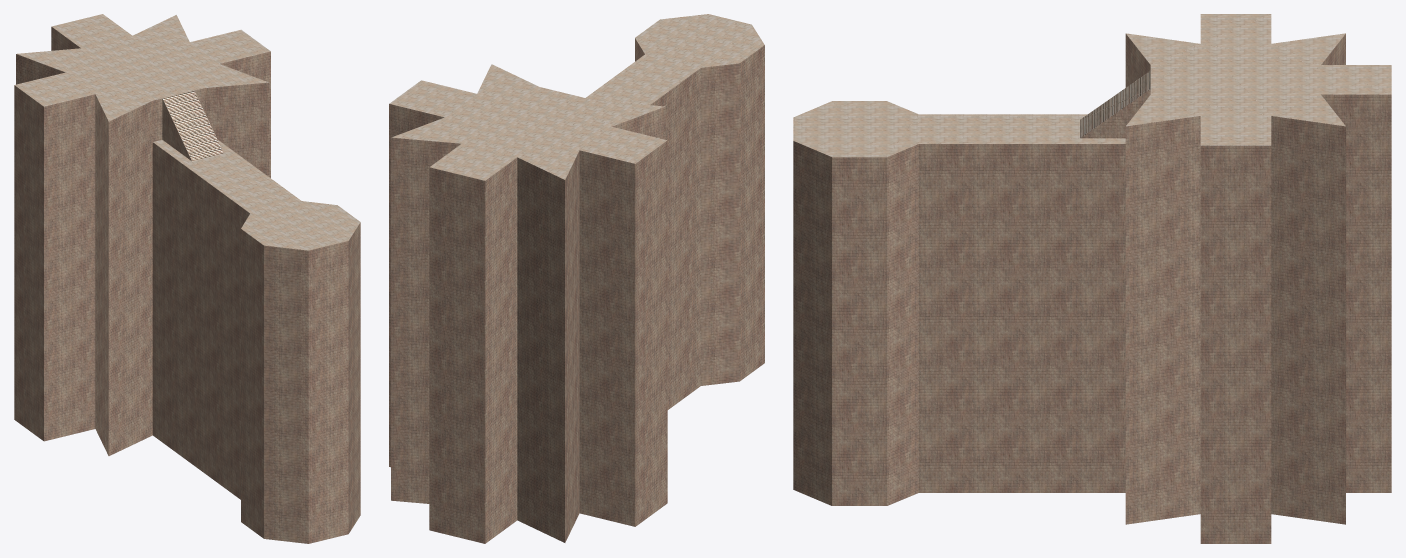
Rendered from Grounds.FBX.
The picture shows the model from 3 angles, left to right: view 1: azimuth 30°, elevation 25°; view 2: azimuth 150°, elevation 25°; view 3: azimuth 270°, elevation 25°; orthographic projection. The views are drawn at different scales.
Visible parts, largest first — view 1: Ground, Floor, Stairs; view 2: Ground, Floor; view 3: Ground, Floor, Stairs.
Part boxes in pixels (x1,y1,x2,y2): Ground: (14, 27, 360, 543); Floor: (14, 14, 360, 250); Stairs: (162, 90, 223, 161); Ground: (389, 38, 764, 543); Floor: (389, 14, 764, 180); Ground: (793, 34, 1391, 543); Floor: (793, 14, 1391, 157); Stairs: (1080, 71, 1150, 137).
Size of the model in its own units: 67.57 by 95.22 by 130.
Materials: 3 (3 with a texture image).
